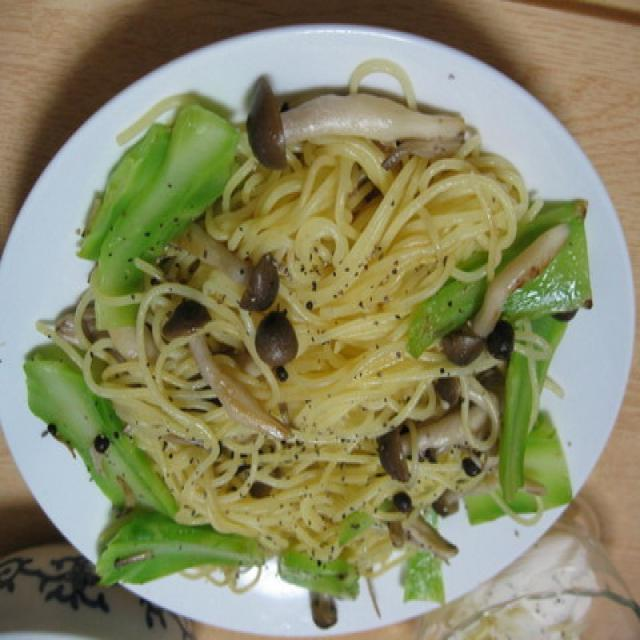Pasta: (134, 163, 494, 548)
